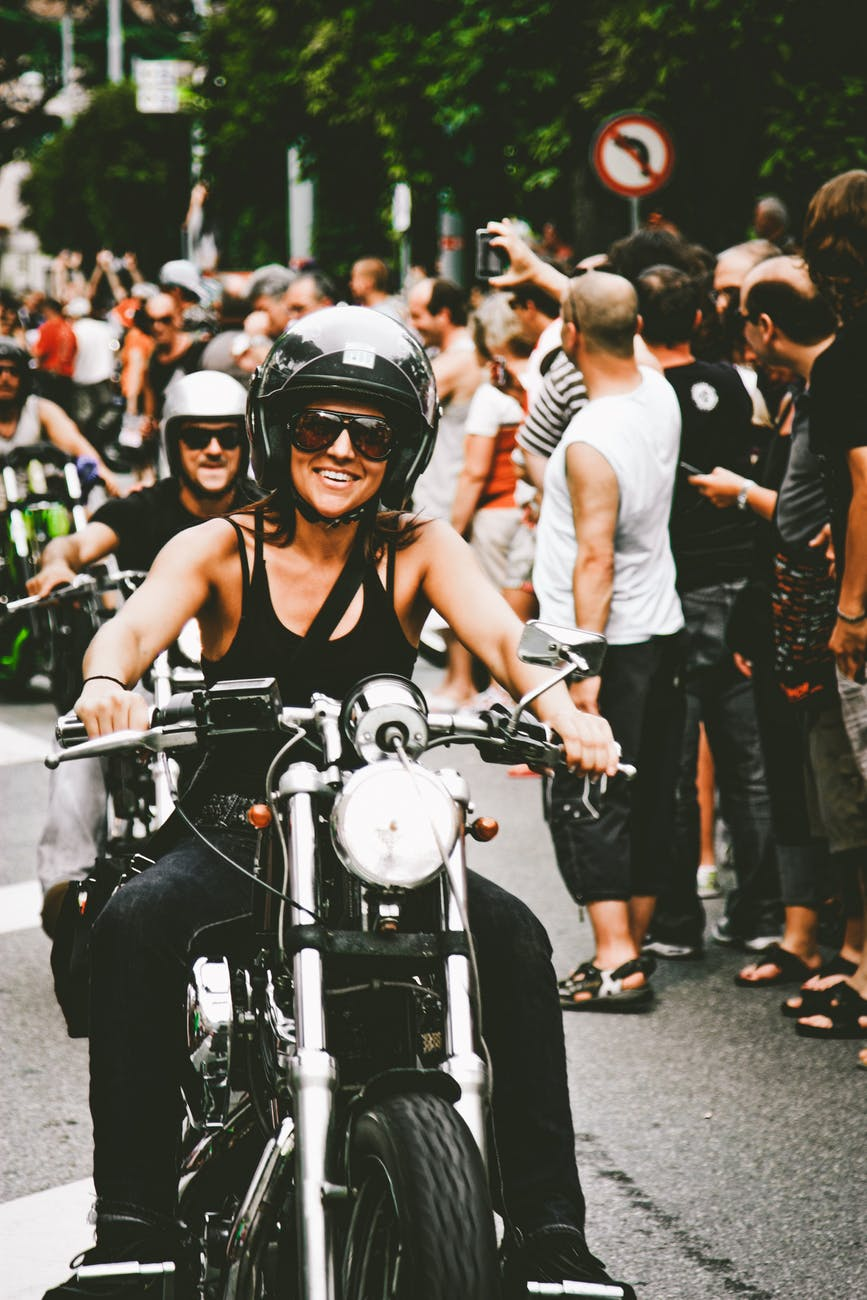helmet: (264, 319, 418, 453), (146, 369, 254, 435)
